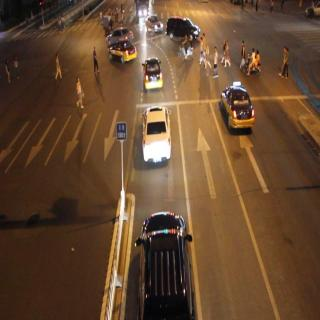Car: (136, 204, 198, 320), (218, 76, 257, 143), (139, 100, 177, 167), (168, 8, 208, 51), (104, 37, 135, 73), (144, 53, 164, 87), (109, 27, 135, 46), (144, 14, 166, 36)
